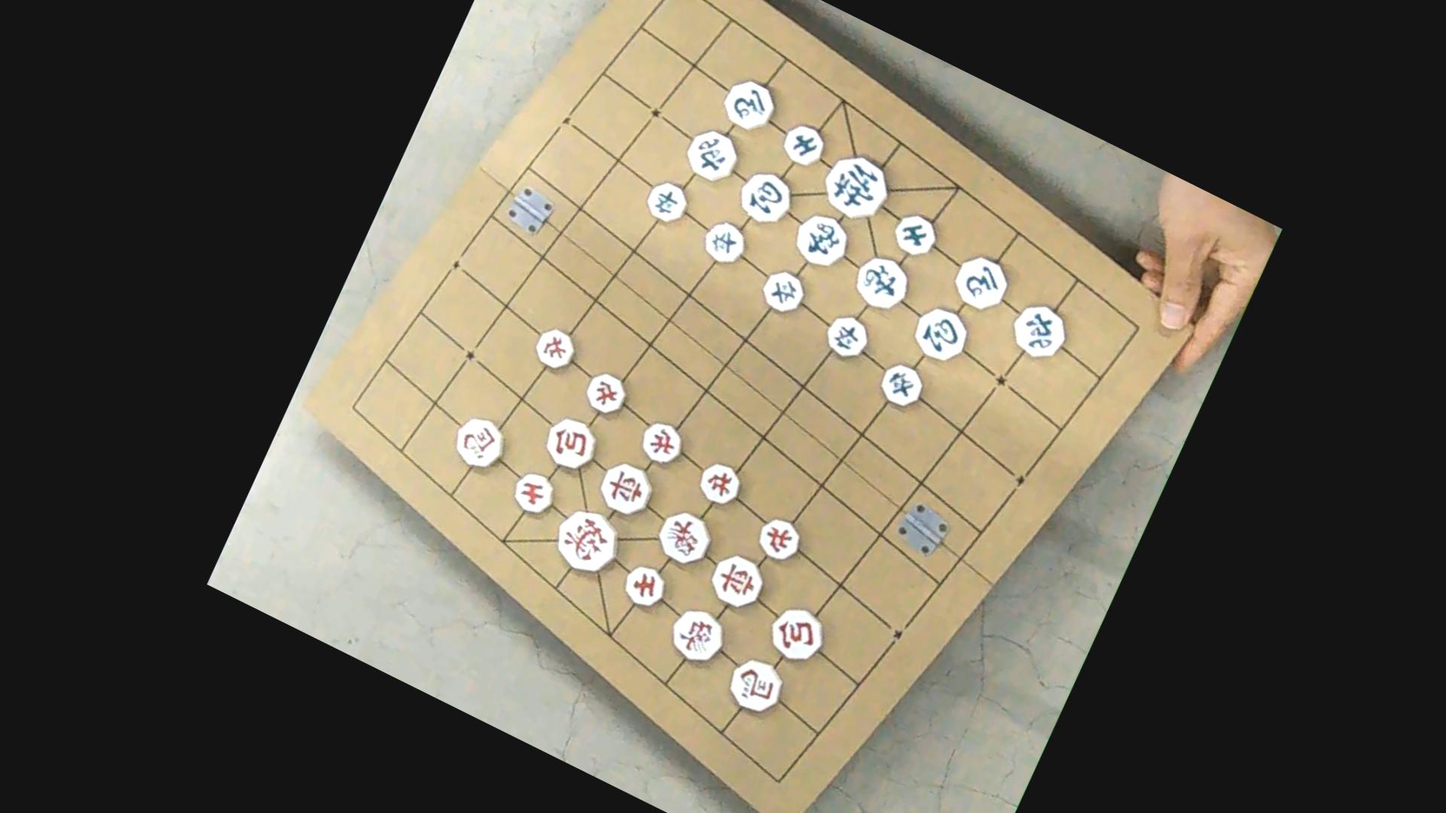cha_green: (1004, 299, 1074, 364), (679, 123, 746, 187)
cha_red: (703, 548, 772, 614), (592, 457, 660, 521)
jol_green: (874, 358, 930, 411), (819, 310, 874, 363), (756, 265, 811, 317), (697, 217, 751, 268), (641, 176, 694, 227)
jol_red: (635, 416, 690, 468), (752, 513, 807, 564), (694, 458, 747, 509), (580, 368, 633, 418), (529, 324, 582, 373)
ma_green: (947, 250, 1016, 315), (716, 72, 782, 136)
ma_red: (721, 653, 791, 718), (447, 410, 514, 473)
po_green: (907, 300, 976, 367), (732, 166, 800, 230)
po_red: (762, 601, 832, 667), (538, 411, 605, 475)
sa_green: (888, 209, 942, 260), (777, 118, 831, 169)
sa_red: (618, 560, 673, 612), (508, 467, 561, 518)
sang_green: (788, 207, 856, 273), (848, 250, 917, 315)
sang_red: (650, 505, 719, 571), (664, 604, 732, 668)
wang_green: (813, 146, 898, 226)
wang_red: (545, 501, 629, 580)
